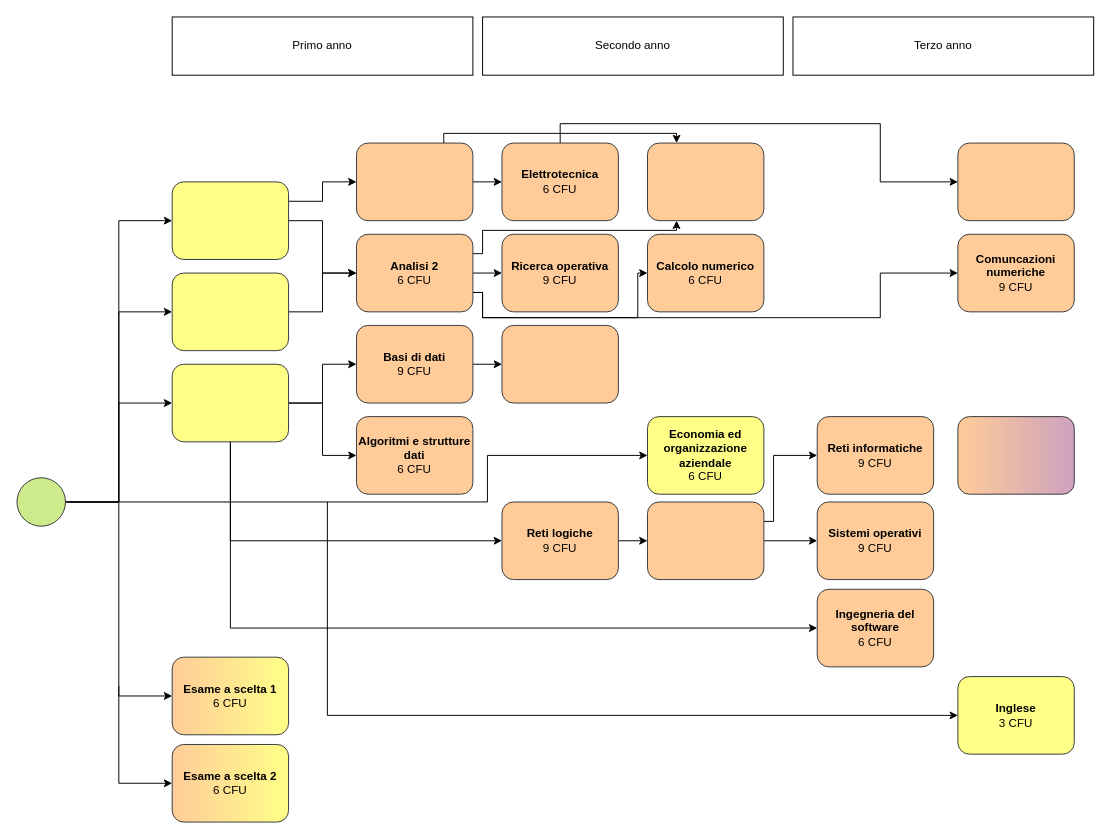
This 1111x839 diagram has some shape labels left out. The shapes that lost their labels are listed below. From the top down, each one's centre as x and y in pixels, then its label:
point (414, 181): Fisica Generale 12 CFU
point (705, 181): Fondamenti di automatica 9 CFU
point (1015, 181): Elettronica digitale 9 CFU
point (230, 220): Analisi 1 12 CFU
point (230, 311): Algebra lineare 6 CFU
point (559, 363): Progettazione web 6 CFU
point (230, 402): Fondamenti di programmazione 9 CFU
point (1015, 455): Tesi 3 CFU
point (705, 540): Calcolatori elettronici 9 CFU
